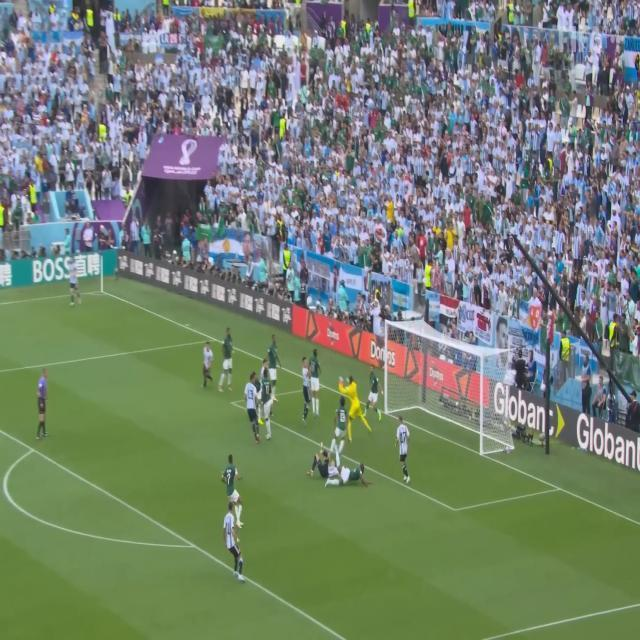player: (340, 365, 375, 437), (222, 452, 249, 529), (242, 371, 263, 446), (392, 413, 415, 481), (223, 502, 243, 580), (259, 356, 276, 439), (330, 459, 370, 489), (220, 324, 237, 392), (300, 355, 314, 430), (366, 366, 384, 422), (268, 331, 283, 396), (309, 343, 321, 422), (335, 396, 352, 448), (68, 259, 79, 310), (204, 340, 213, 390)
